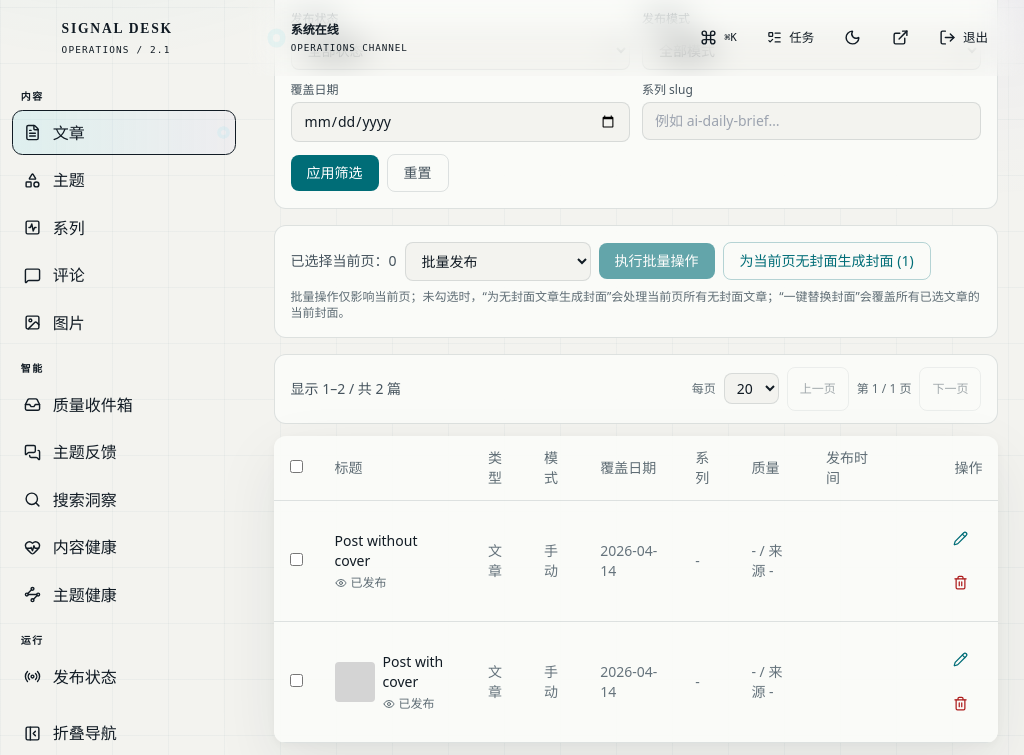
bulk-generates covers only for selected current-page posts missing covers
This screenshot has width=1024, height=755.
(page scrolled)
Expected: the text "Post without cover" is shown, left=335, top=531, right=417, bottom=570
Expected: the text "Post with cover" is shown, left=383, top=652, right=443, bottom=691
What coordinates should you click on to do the following:
click the checkbox named "选择当前页文章"
I would click on:
 (296, 466)
Its box is left=290, top=460, right=303, bottom=473.
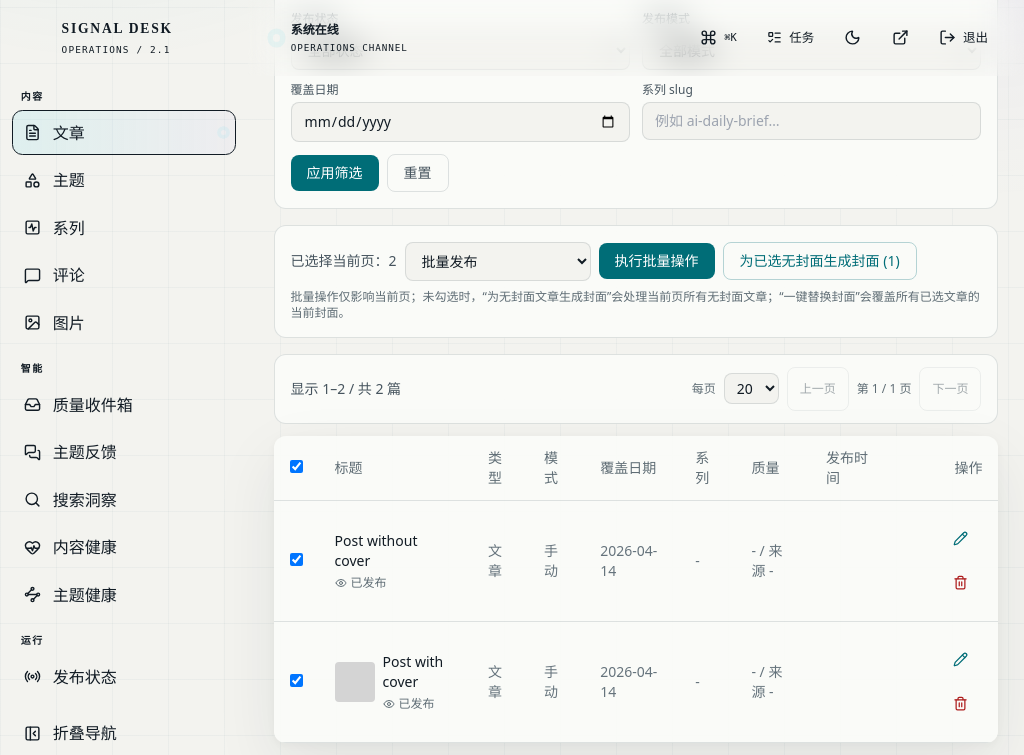
Expected: the text "未勾选时，“为无封面文章生成封面”会处理当前页所有无封面文章" is shown, left=291, top=288, right=980, bottom=321
Now the text "已选择当前页：2" is shown, box left=291, top=251, right=397, bottom=271
What coordinates should you click on to do the following:
click the button "为已选无封面生成封面 (1)"
I would click on:
 (820, 261)
Its box is left=723, top=242, right=917, bottom=280.
(page scrolled)
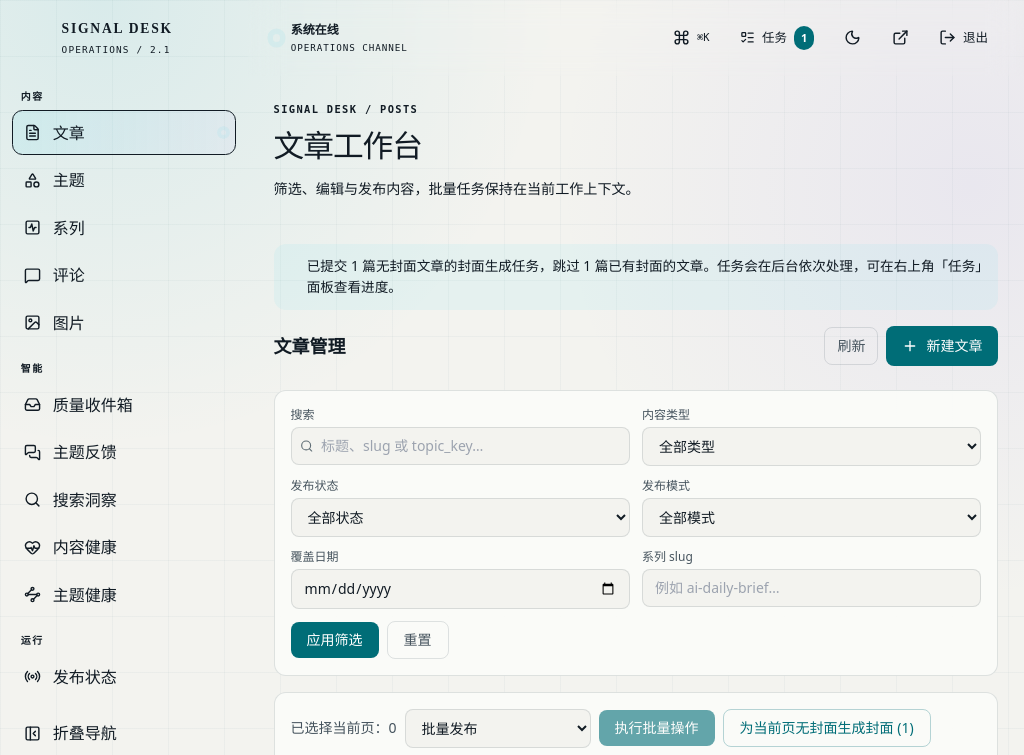
Now the text "已提交 1 篇无封面文章的封面生成任务，跳过 1 篇已有封面的文章" is shown, box left=307, top=256, right=982, bottom=296
